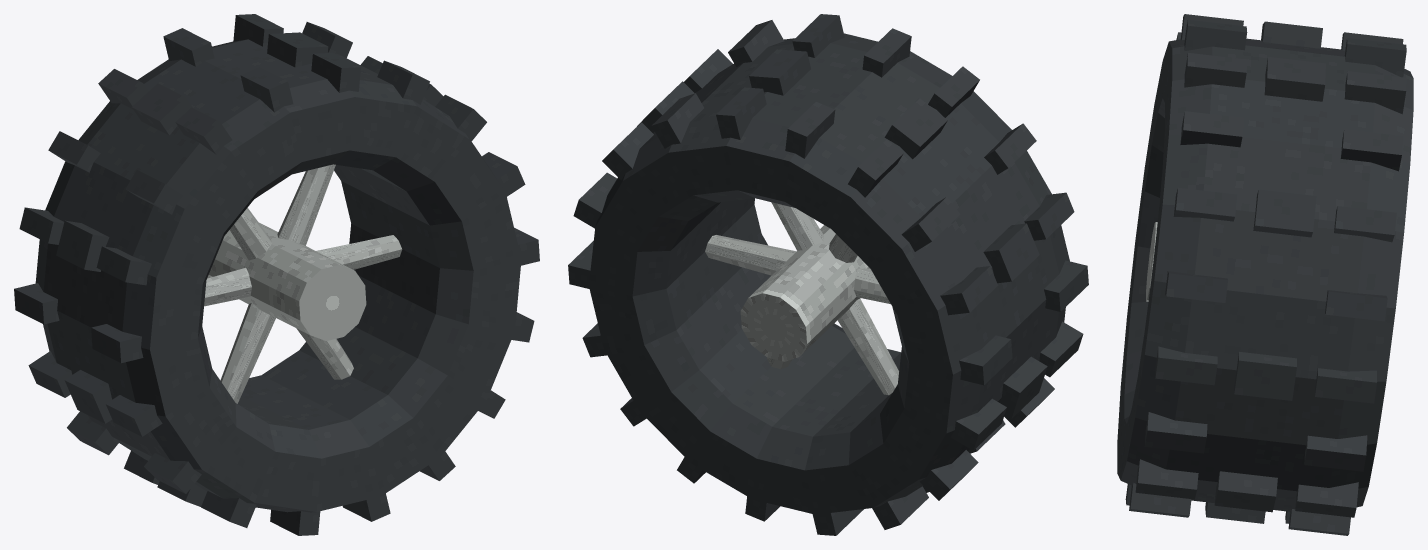
The model's file is wheel_wide_or.glb.
3 views of the same model, side by side, from view 1: azimuth 30°, elevation 25°; view 2: azimuth 150°, elevation 25°; view 3: azimuth 270°, elevation 25° (orthographic). The views are drawn at different scales.
Parts seen in each view (by area): view 1: block_wheel cross section, block_raised off-road stud (×24), block_radial spoke (×6), block_wheel hub, block_center block (×4); view 2: block_wheel cross section, block_raised off-road stud (×23), block_wheel hub, block_center block (×5), block_radial spoke (×4); view 3: block_wheel cross section, block_raised off-road stud (×20), block_center block (×6), block_wheel hub.
Part boxes in pixels (left/top/right/bottom): block_wheel cross section: left=35, top=39, right=521, bottom=512; block_raised off-road stud (×24): left=14, top=14, right=539, bottom=535; block_radial spoke (×6): left=204, top=164, right=402, bottom=403; block_wheel hub: left=207, top=222, right=366, bottom=340; block_center block (×4): left=56, top=32, right=328, bottom=423; block_wheel cross section: left=589, top=33, right=1069, bottom=514; block_raised off-road stud (×23): left=568, top=14, right=1088, bottom=535; block_wheel hub: left=740, top=225, right=870, bottom=361; block_center block (×5): left=637, top=49, right=1047, bottom=419; block_radial spoke (×4): left=705, top=202, right=898, bottom=395; block_wheel cross section: left=1117, top=38, right=1413, bottom=511; block_raised off-road stud (×20): left=1129, top=14, right=1406, bottom=535; block_center block (×6): left=1205, top=21, right=1325, bottom=523; block_wheel hub: left=1146, top=222, right=1157, bottom=301.
Bounding box in the file's own units: 0.5876 × 0.61 × 0.3473.
1 material, 1 textured.
